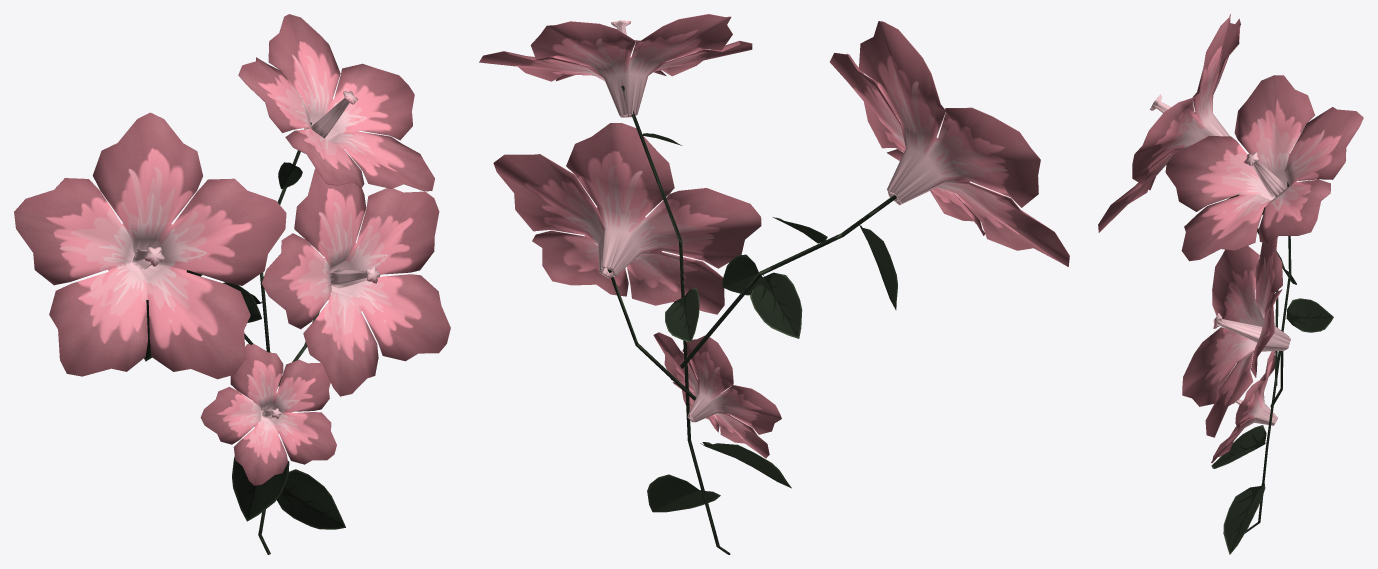
The model's file is Hibiskus_SM.FBX.
The picture shows the model from 3 angles, left to right: view 1: azimuth 30°, elevation 25°; view 2: azimuth 150°, elevation 25°; view 3: azimuth 270°, elevation 25°; orthographic projection. The views are drawn at different scales.
Visible parts, largest first — view 1: Blüten, Blätter, Stängel; view 2: Blüten, Blätter, Stängel; view 3: Blüten, Blätter, Stängel.
Boxes of the visible parts, x1,y1,x2,y2 form: Blüten: (14, 14, 450, 485); Blätter: (144, 162, 345, 529); Stängel: (244, 122, 319, 554); Blüten: (479, 14, 1069, 458); Blätter: (642, 133, 897, 512); Stängel: (607, 85, 896, 554); Blüten: (1098, 14, 1363, 462); Blätter: (1211, 195, 1333, 554); Stängel: (1238, 181, 1291, 533).
Size of the model in its own units: 20.08 by 20.71 by 10.85.
